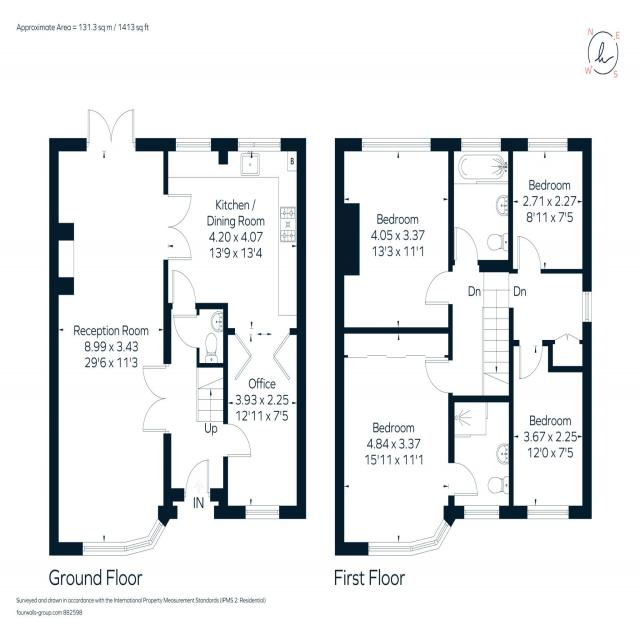DOOR: (183, 459, 211, 502), (448, 461, 479, 497), (424, 269, 453, 307), (453, 225, 479, 266), (171, 269, 197, 310), (518, 340, 543, 382), (223, 422, 252, 458), (424, 359, 453, 394), (516, 235, 542, 274), (172, 313, 200, 349)
DOUBLE DOOR: (135, 358, 171, 440), (160, 189, 196, 267), (83, 106, 139, 150)
ROOM: (49, 108, 192, 557), (335, 327, 478, 556), (163, 137, 307, 335), (334, 137, 454, 334), (509, 340, 592, 519), (508, 137, 592, 274)
WINDOW: (81, 517, 167, 557), (367, 517, 452, 556), (360, 137, 432, 153), (526, 504, 570, 520), (237, 137, 282, 152), (460, 137, 502, 153), (527, 137, 569, 153), (175, 137, 212, 152), (245, 505, 281, 520), (464, 505, 500, 519), (581, 290, 593, 324)
